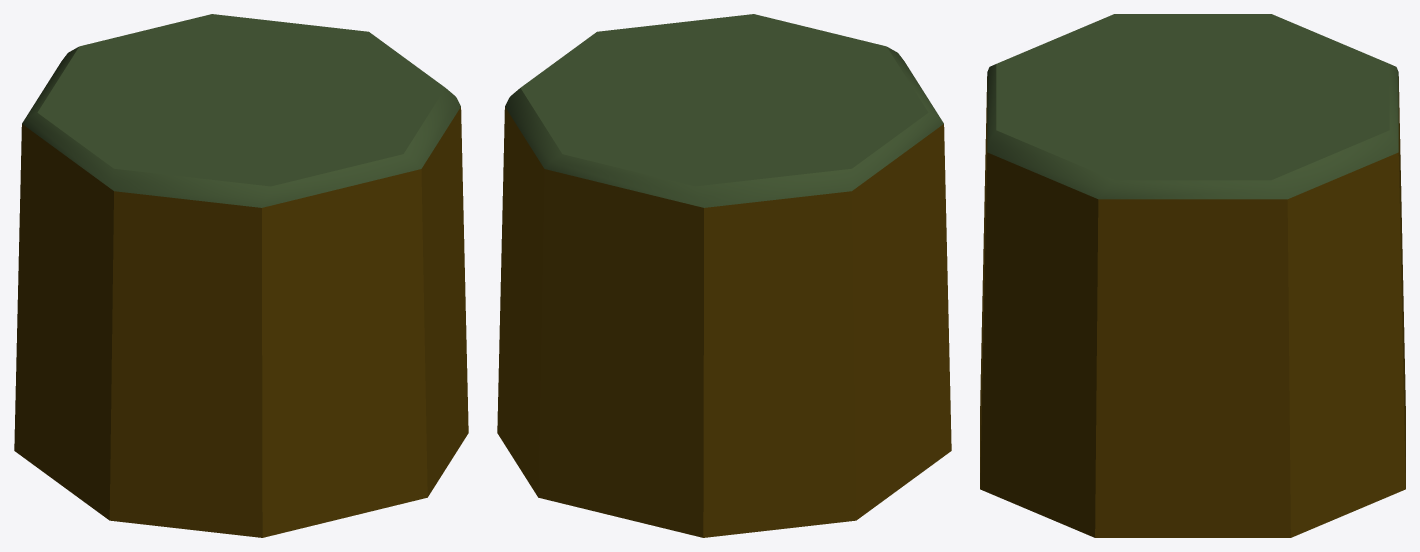
Rendered from envCliff_20x20a.fbx.
The picture shows the model from 3 angles, left to right: view 1: azimuth 30°, elevation 25°; view 2: azimuth 150°, elevation 25°; view 3: azimuth 270°, elevation 25°; orthographic projection. The views are drawn at different scales.
Visible parts, largest first — view 1: envCliff_20x20; view 2: envCliff_20x20; view 3: envCliff_20x20.
Boxes of the visible parts, bbox=[...] form: envCliff_20x20: bbox=[14, 14, 468, 537]; envCliff_20x20: bbox=[497, 14, 951, 537]; envCliff_20x20: bbox=[980, 14, 1405, 537].
Size of the model in its own units: 20.69 by 18.82 by 20.69.
